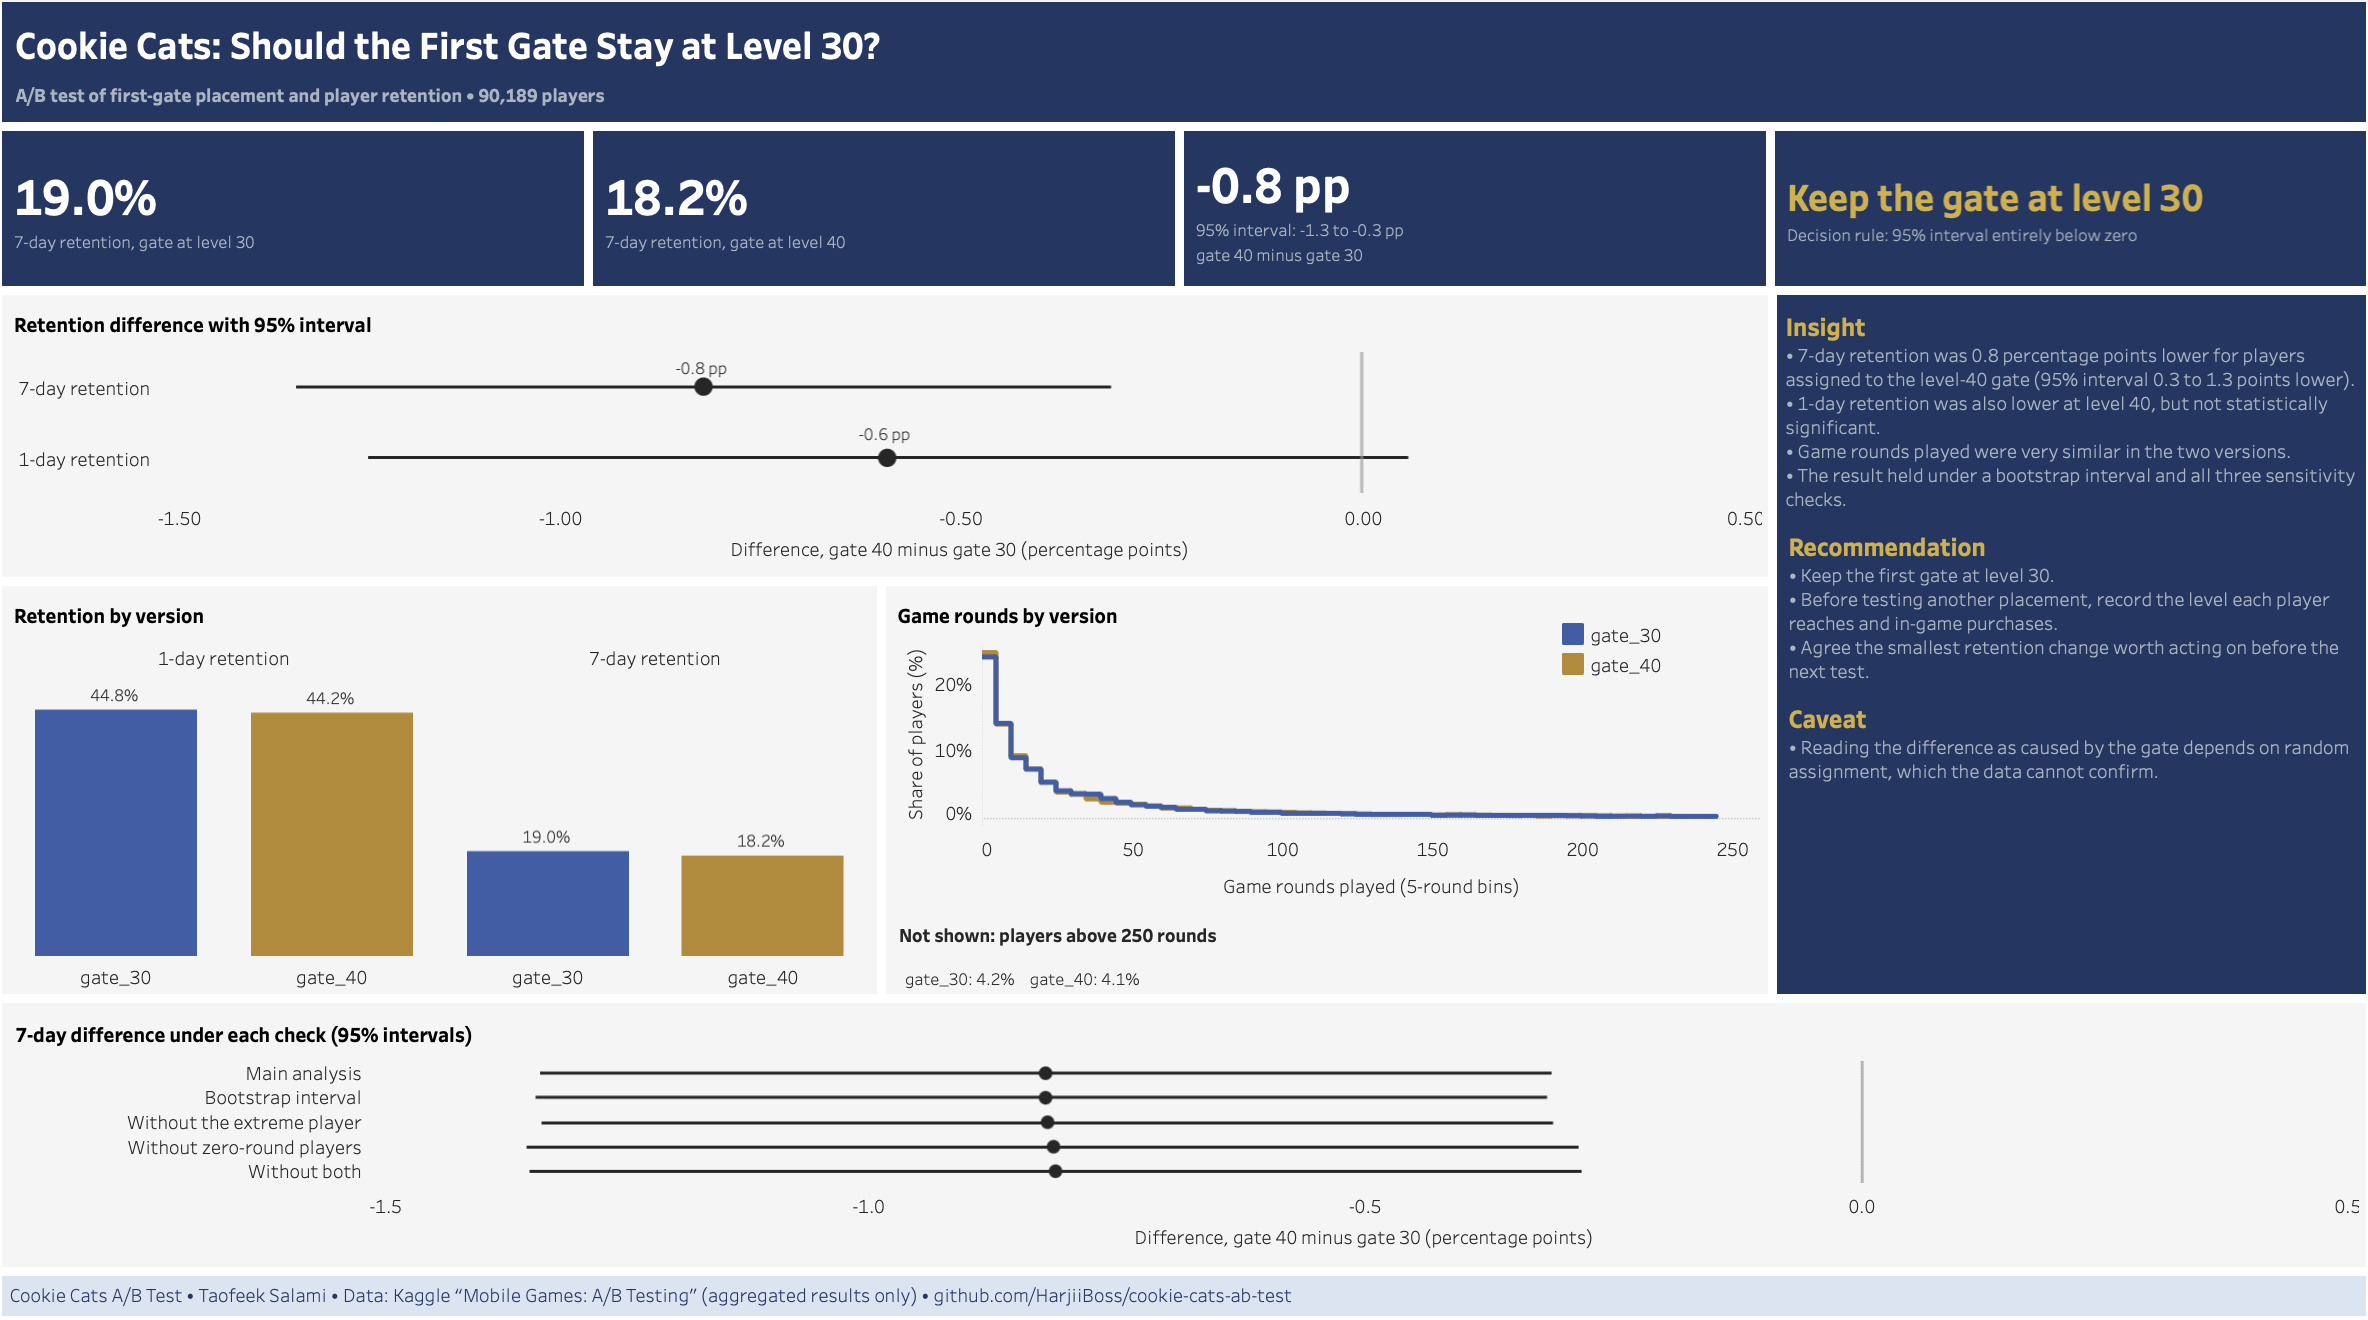

The page's visual inventory and layout, read from the dashboard file:
{"tool":"tableau","page":{"name":"Cookie Cats: Should the First Gate Stay at Level 30?","canvas":[1600,900],"ordinal":0},"visuals":[{"type":"text","box":[17,17,1566,45]},{"type":"text","box":[17,62,1566,23]},{"type":"worksheet","title":"01 - KPI - 7-day gate_30","mark":"Automatic","box":[12,98,394,103]},{"type":"worksheet","title":"02 - KPI - 7-day gate_40","mark":"Automatic","box":[406,98,394,103]},{"type":"worksheet","title":"03 - KPI - 7-day difference","mark":"Automatic","box":[800,98,394,103]},{"type":"worksheet","title":"04 - KPI - Decision","mark":"Automatic","box":[1194,98,394,103]},{"type":"worksheet","title":"05 - Chart - Retention difference","mark":"GanttBar","rows":["metric"],"cols":["ci_low_pp","difference_pp"],"box":[12,207,1177,188]},{"type":"text","box":[1199,211,385,138]},{"type":"text","box":[1199,349,385,110]},{"type":"worksheet","title":"06 - Chart - Retention by version","mark":"Bar","rows":["retention_pct"],"cols":["metric","version"],"box":[12,401,589,272]},{"type":"worksheet","title":"07 - Chart - Game rounds","mark":"Line","rows":["share_pct"],"cols":["rounds_from"],"box":[601,401,588,219]},{"type":"legend","title":"07 - Chart - Game rounds","param":"[federated.16he1a21gl3uqw16jtxzu0nhw46r].[none:version:nk]","box":[1049,423,140,40]},{"type":"text","box":[1199,459,385,62]},{"type":"worksheet","title":"08 - Text - Above 250 rounds","mark":"Text","box":[601,620,588,53]},{"type":"worksheet","title":"09 - Chart - Robustness","mark":"GanttBar","rows":["Calculation_0086095512301571"],"cols":["ci_low_pp","difference_pp"],"box":[12,673,1576,188]},{"type":"text","box":[12,861,1576,27]}]}

Visuals, with their boxes in screenshot pixels (x1, y1, x2, y2), scaled from the page's 1600x900 canvas onto the 2368x1320 screenshot:
text: detection(25, 25, 2343, 91)
text: detection(25, 91, 2343, 125)
"01 - KPI - 7-day gate_30" worksheet: detection(18, 144, 601, 295)
"02 - KPI - 7-day gate_40" worksheet: detection(601, 144, 1184, 295)
"03 - KPI - 7-day difference" worksheet: detection(1184, 144, 1767, 295)
"04 - KPI - Decision" worksheet: detection(1767, 144, 2350, 295)
"05 - Chart - Retention difference" worksheet (GanttBar marks): detection(18, 304, 1760, 579)
text: detection(1775, 309, 2344, 512)
text: detection(1775, 512, 2344, 673)
"06 - Chart - Retention by version" worksheet (Bar marks): detection(18, 588, 889, 987)
"07 - Chart - Game rounds" worksheet (Line marks): detection(889, 588, 1760, 909)
"07 - Chart - Game rounds" legend: detection(1553, 620, 1760, 679)
text: detection(1775, 673, 2344, 764)
"08 - Text - Above 250 rounds" worksheet (Text marks): detection(889, 909, 1760, 987)
"09 - Chart - Robustness" worksheet (GanttBar marks): detection(18, 987, 2350, 1263)
text: detection(18, 1263, 2350, 1302)
